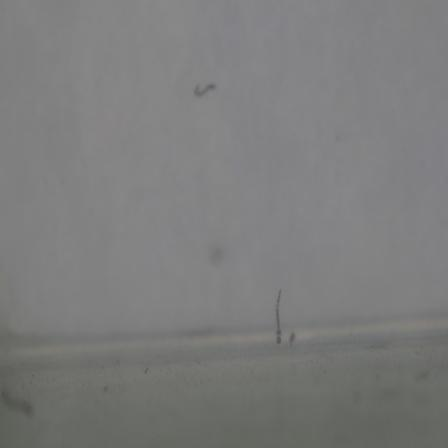Jentik-Nyamuk: (268, 286, 288, 350)
